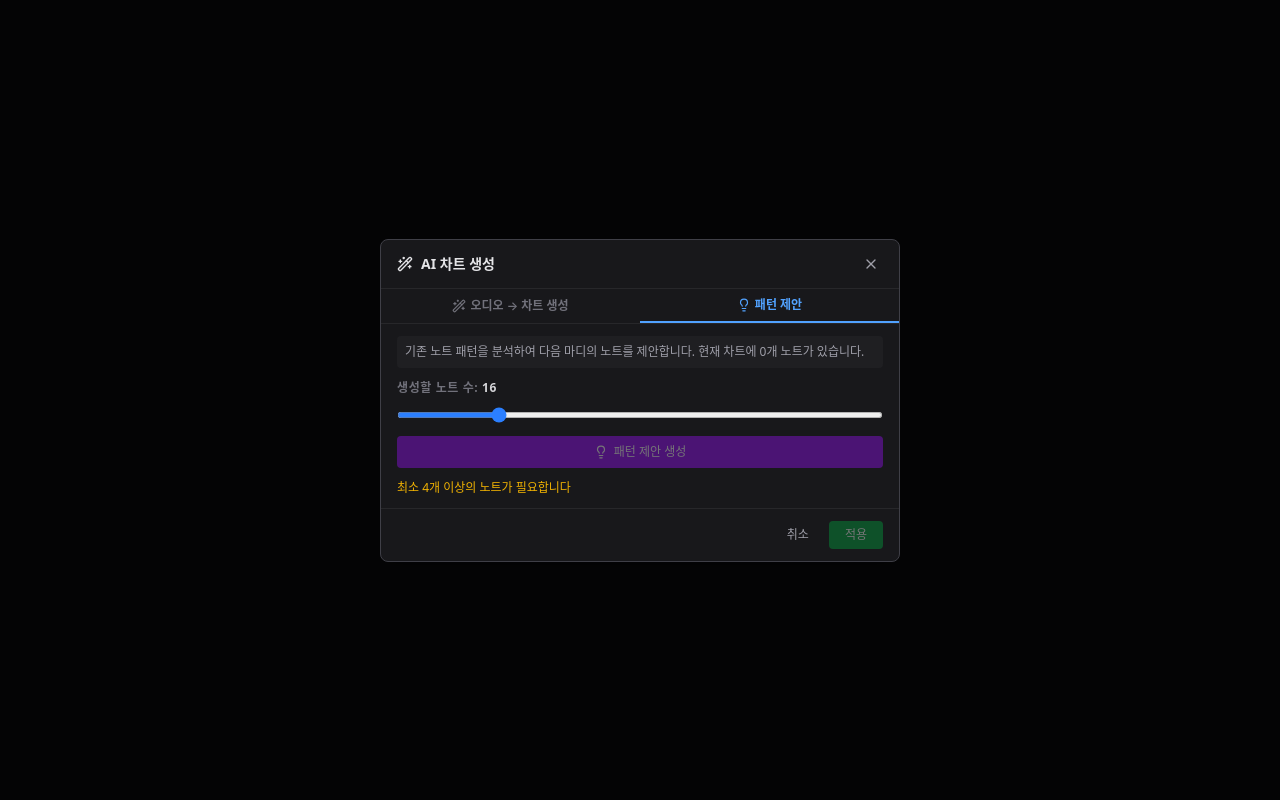
Scenario: AutoChartDialog › switches between generate and suggest modes
Expected: the button "패턴 제안 생성" is shown, [397,436,883,468]
# Switch to generate
Click the button "오디오 → 차트 생성": (510, 306) [381,288,640,322]
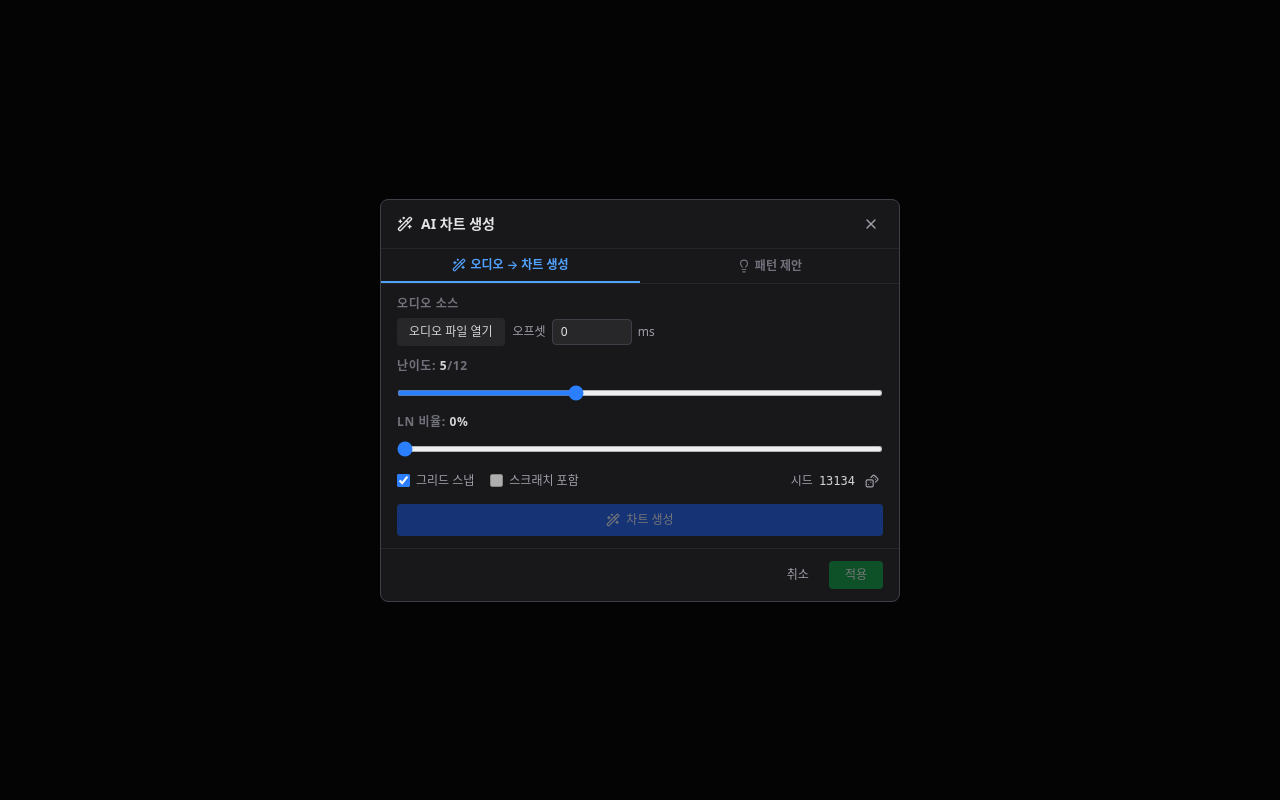
Now the button "차트 생성" is shown, box [397,504,883,536]
Now the button "패턴 제안 생성" is gone
# Switch back to suggest
Click the button "패턴 제안": (770, 266) [640,248,899,282]
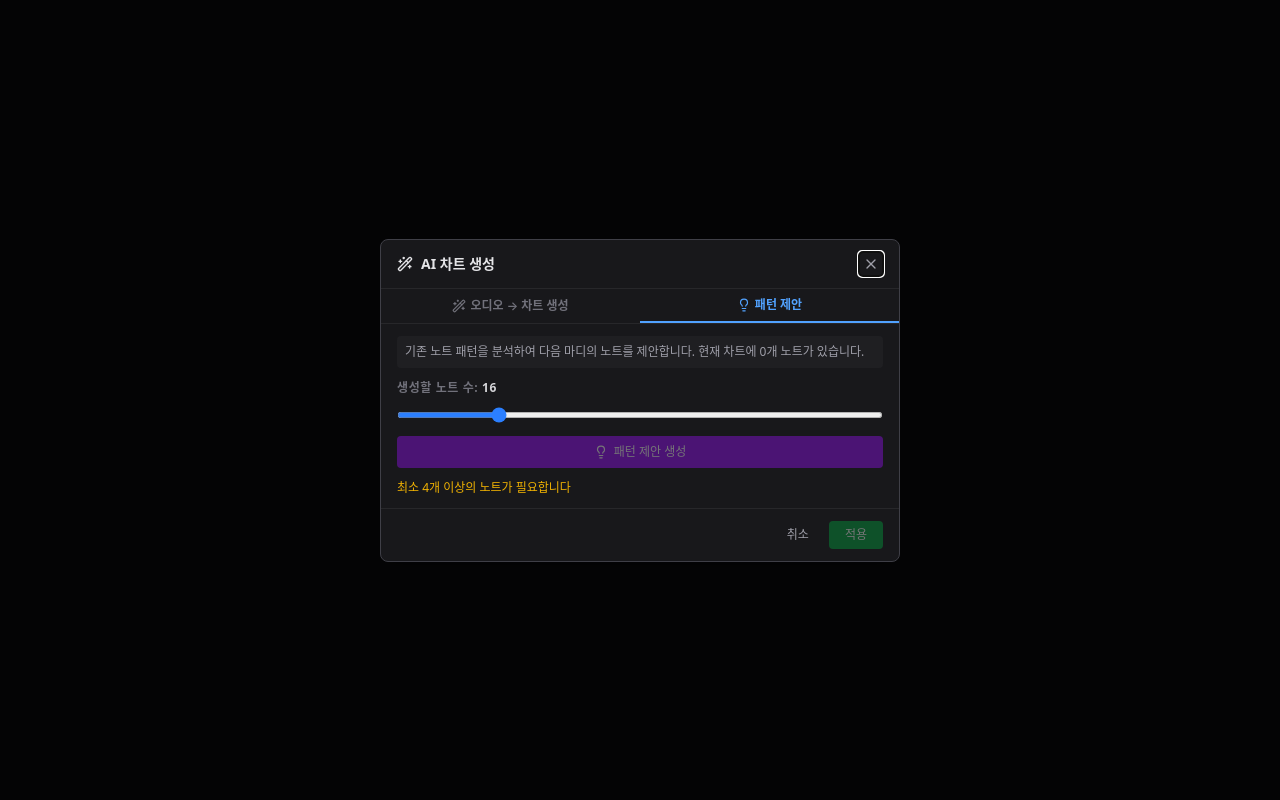
Now the button "패턴 제안 생성" is shown, box [397,436,883,468]
